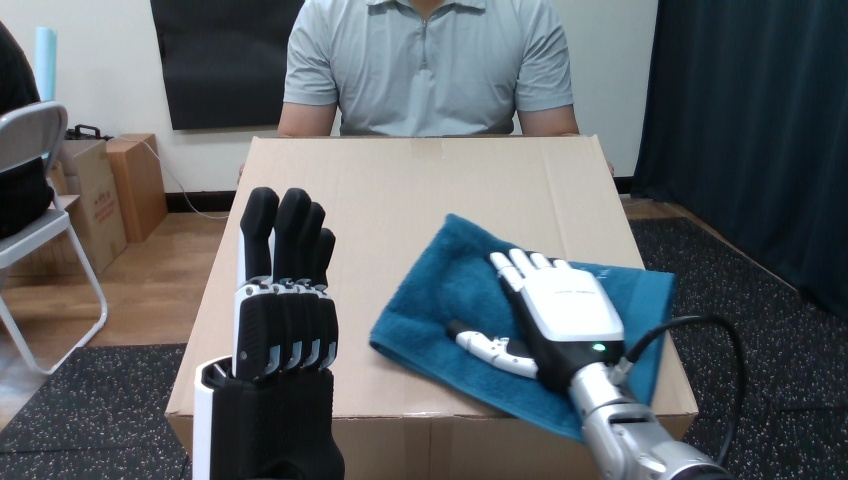left robot hand: (447, 248, 745, 479), (193, 187, 344, 478), (626, 322, 738, 462)
